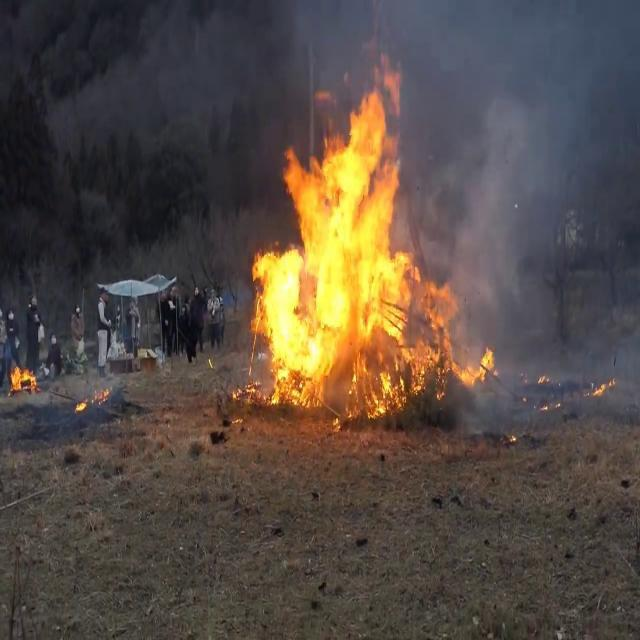Fire: (242, 71, 490, 414), (7, 358, 38, 392), (587, 370, 617, 400)
Smoke: (383, 0, 640, 400)
